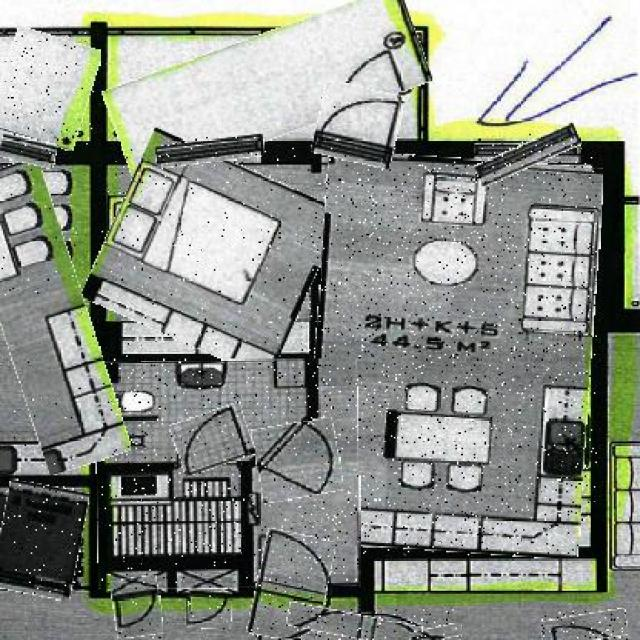door: (251, 531, 331, 640), (254, 420, 341, 500), (316, 84, 402, 164), (286, 609, 454, 640), (172, 408, 252, 470), (112, 577, 162, 638), (542, 611, 628, 640), (190, 592, 232, 630), (409, 624, 461, 640)
window: (474, 132, 581, 177), (156, 137, 264, 165), (0, 135, 55, 166)
zone: (309, 154, 597, 555), (97, 360, 360, 588), (94, 145, 329, 363), (106, 9, 429, 163), (0, 160, 108, 474), (0, 31, 94, 146), (0, 482, 83, 596)
